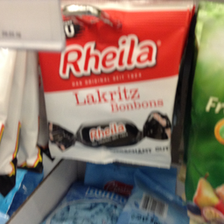candy: (39, 3, 185, 164)
